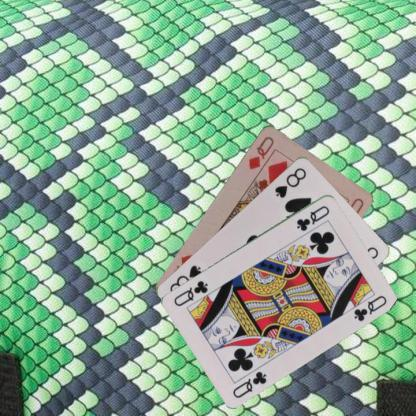8s: (272, 164, 308, 198)
Qc: (230, 368, 268, 399), (294, 203, 331, 232)
Qd: (246, 133, 276, 171)
